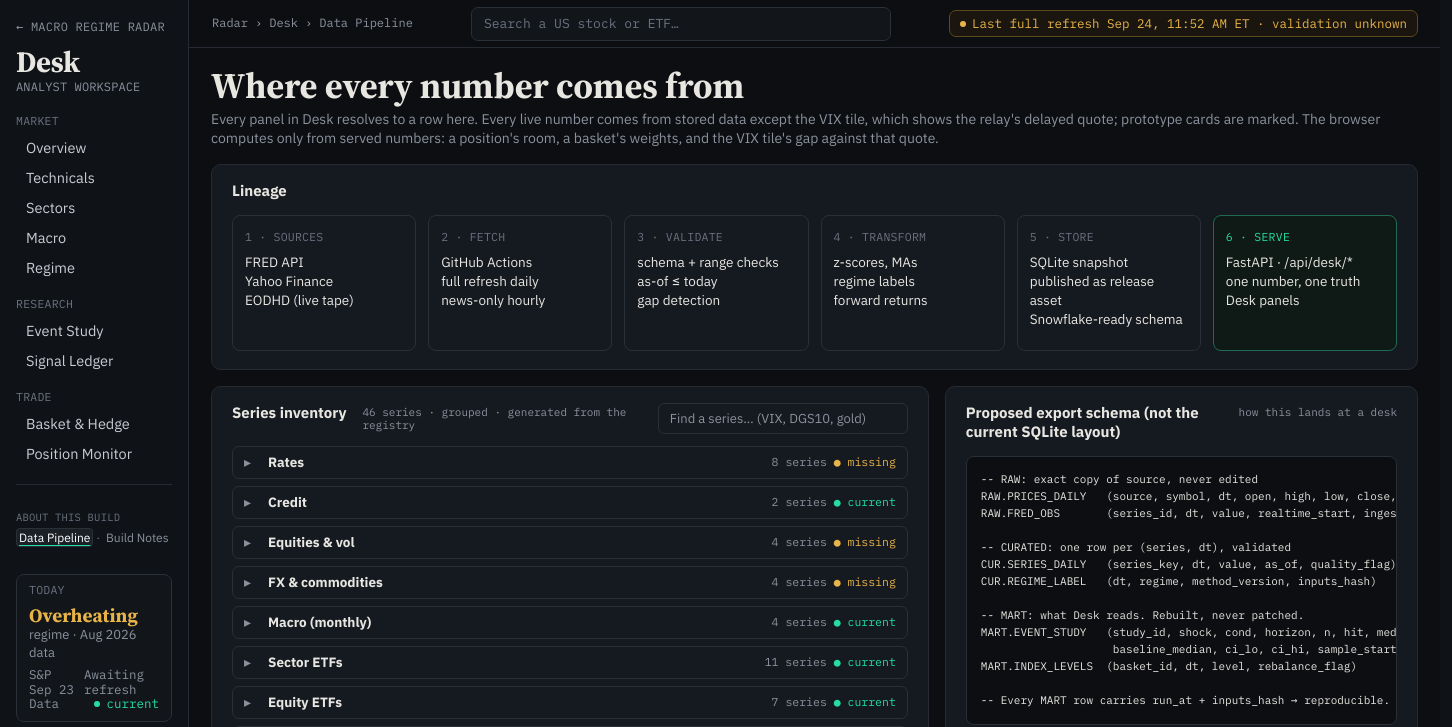
Scenario: Data Pipeline tab › search jumps to a series and opens its group; a miss says so
Type "VIX" into the search field labelled "Find a series". click: (783, 418)
box: [658, 403, 908, 434]
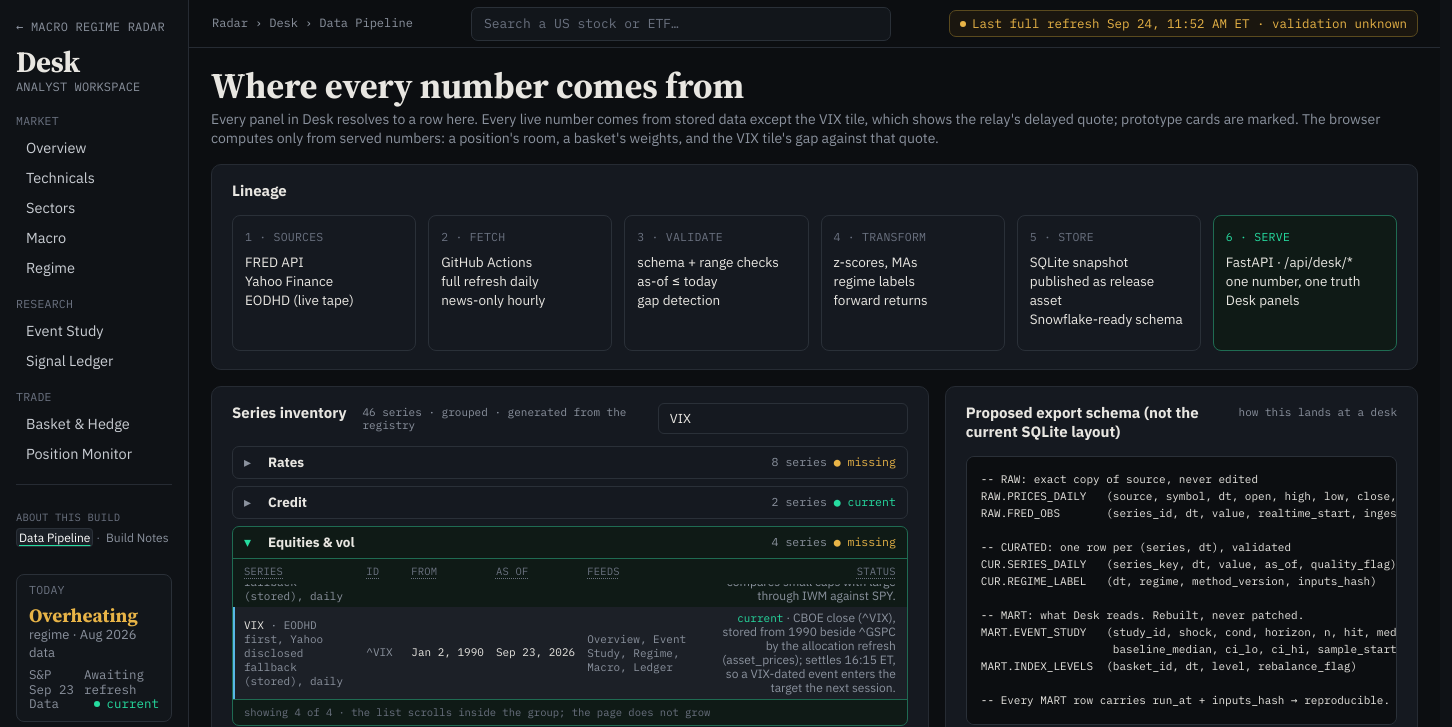
Now the row shows "^VIX", box [366, 645, 393, 659]
Replace the text in the search field named "Find a series" with "zzz". click: (783, 418)
box: [658, 403, 908, 434]
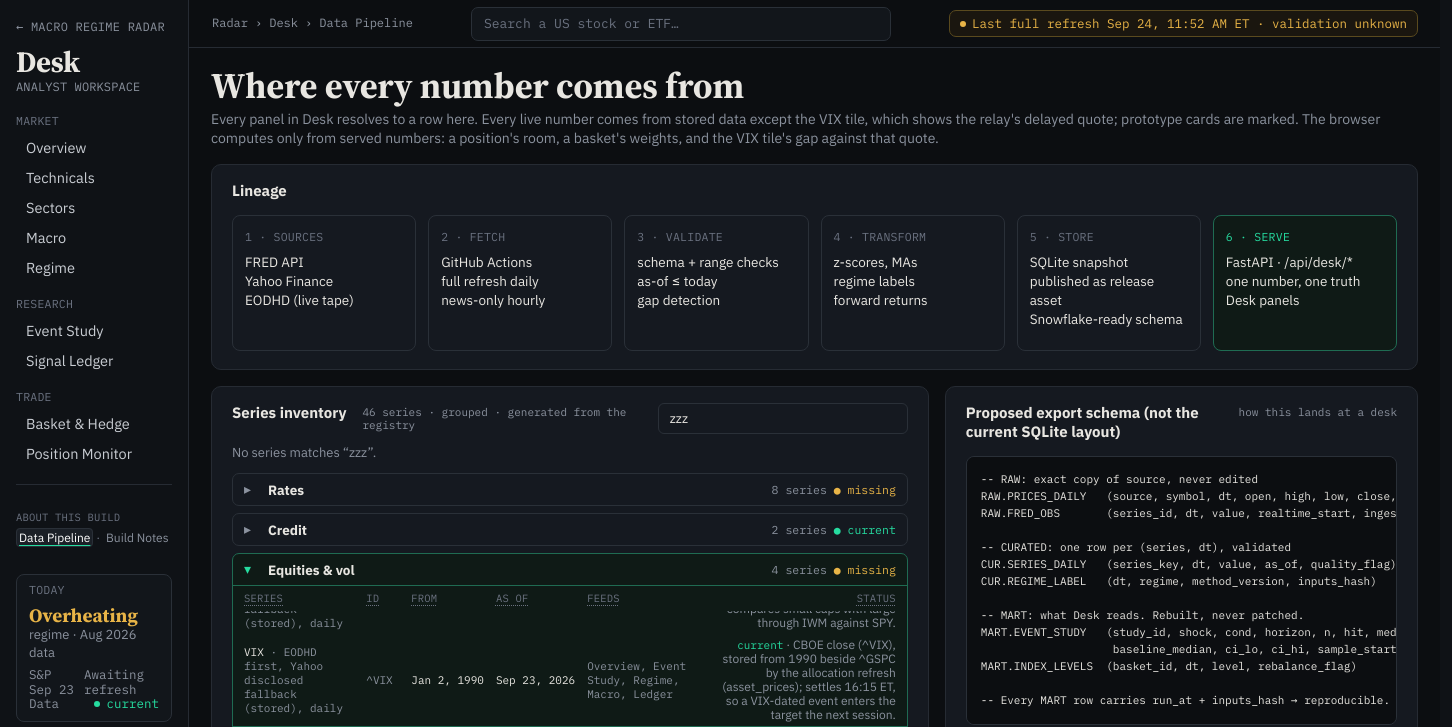
Now the message reads "No series matches “zzz”.", box [232, 444, 376, 461]
